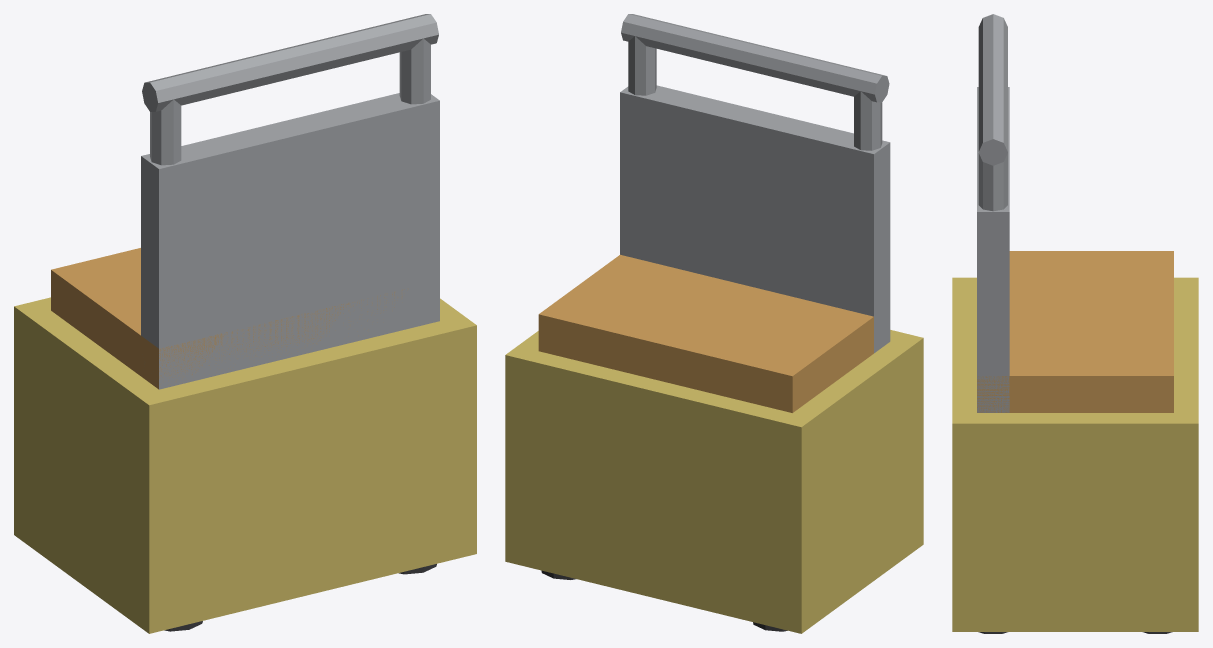
The model's file is eld_carrinho_limpeza.glb.
The picture shows the model from 3 angles, left to right: view 1: azimuth 30°, elevation 25°; view 2: azimuth 150°, elevation 25°; view 3: azimuth 270°, elevation 25°; orthographic projection. The views are drawn at different scales.
Parts seen in each view (by area): view 1: ELD_CARRINHO_LIMPEZA_v01; view 2: ELD_CARRINHO_LIMPEZA_v01; view 3: ELD_CARRINHO_LIMPEZA_v01.
Part boxes in pixels (x1=…): ELD_CARRINHO_LIMPEZA_v01: x1=14, y1=14, x2=476, y2=633; ELD_CARRINHO_LIMPEZA_v01: x1=505, y1=14, x2=923, y2=633; ELD_CARRINHO_LIMPEZA_v01: x1=952, y1=14, x2=1198, y2=633.
Bounding box in the file's own units: 0.42 × 0.663 × 0.3.
